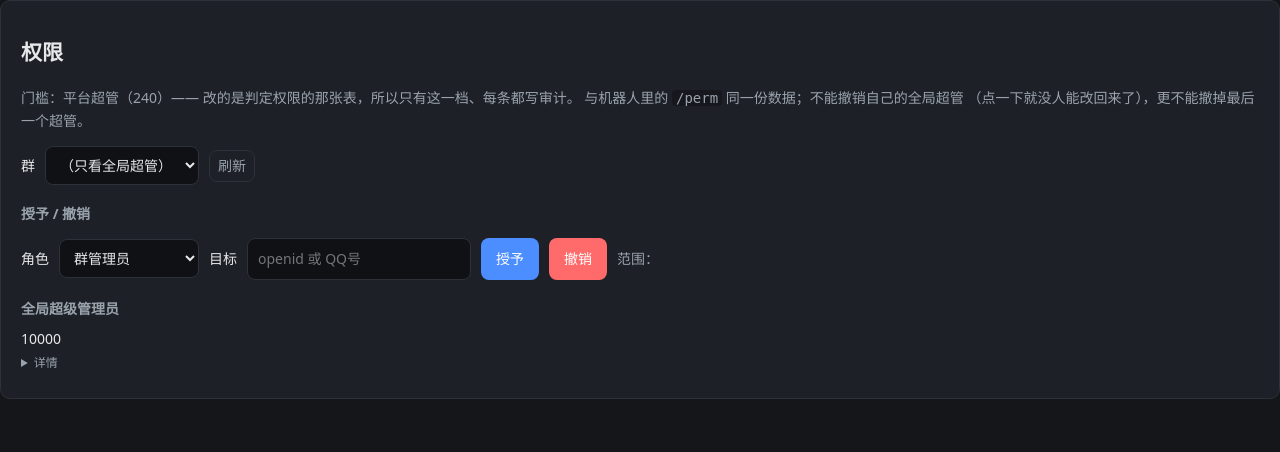
Test: PermissionsView › 没有任何有授权的群时：群角色点按钮只提示「先选一个群」，不发写请求
This screenshot has width=1280, height=452.
Select "群管理员" in the dropdown labelled "角色". click: (129, 259)
box: top-left (59, 239), bottom-right (199, 278)
Type "u1" into the field labelled "目标". click: (359, 259)
box: top-left (247, 238), bottom-right (471, 280)
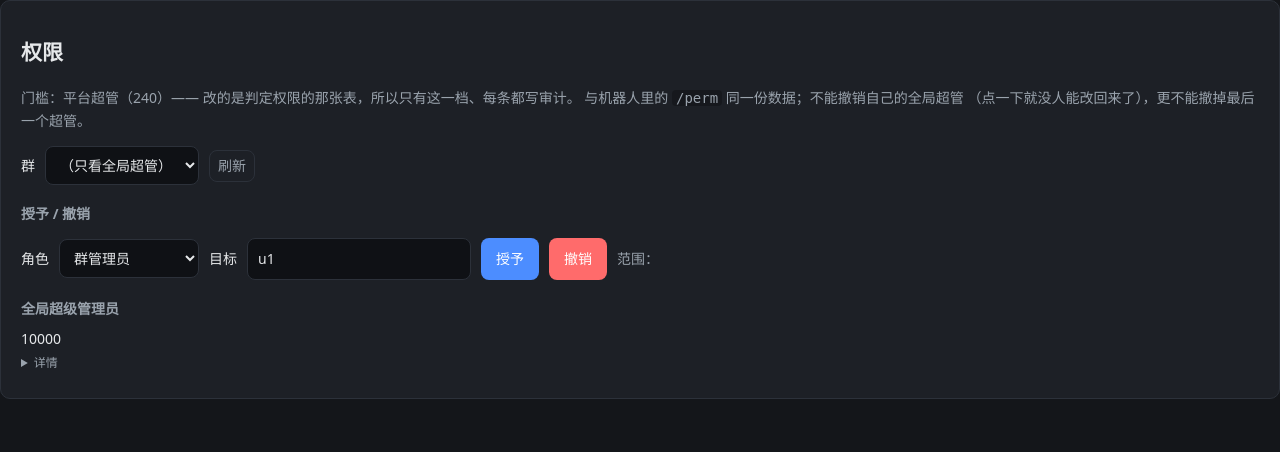
Click the button "授予". click: (510, 259)
box: top-left (481, 238), bottom-right (539, 280)
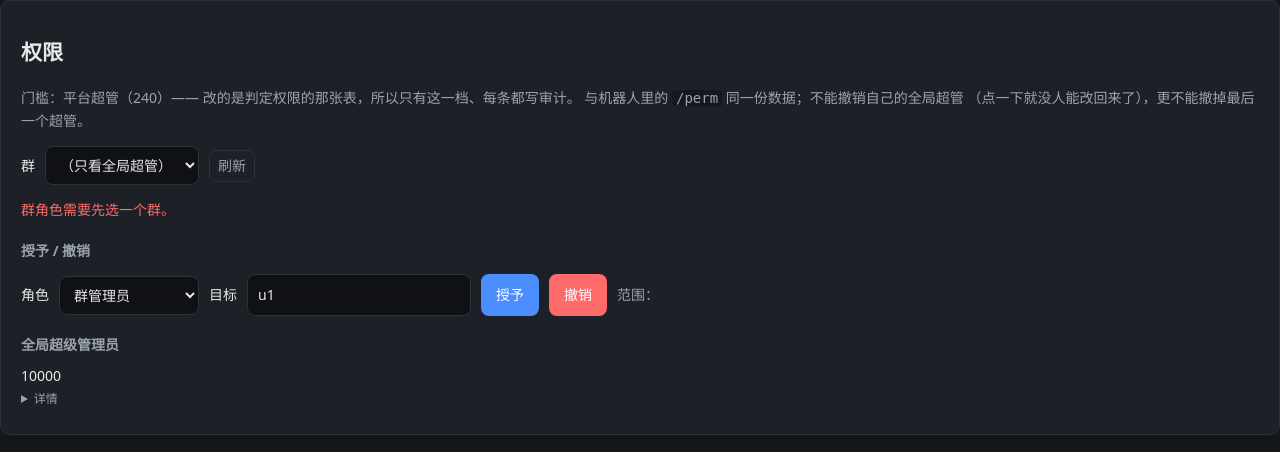
Expected: the text with class "error" shows "先选一个群", top-left (21, 200), bottom-right (175, 219)
